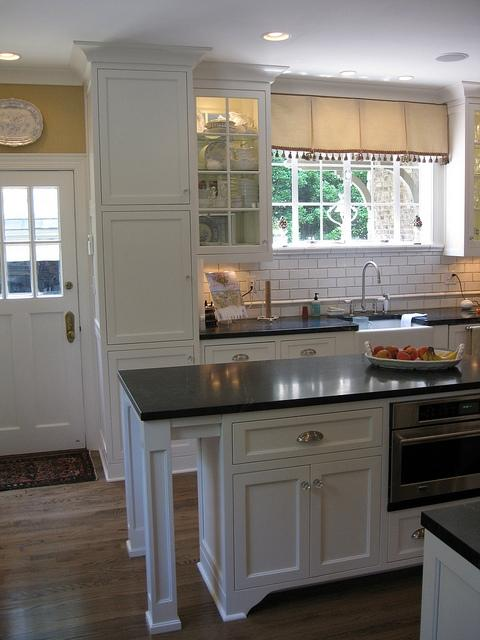banana: (432, 346, 458, 361), (428, 347, 452, 361)
